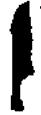Reed: (7, 1, 34, 115)
